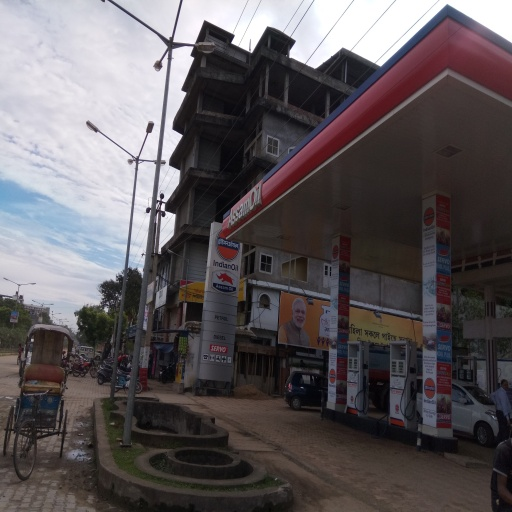roof: (221, 9, 509, 275)
